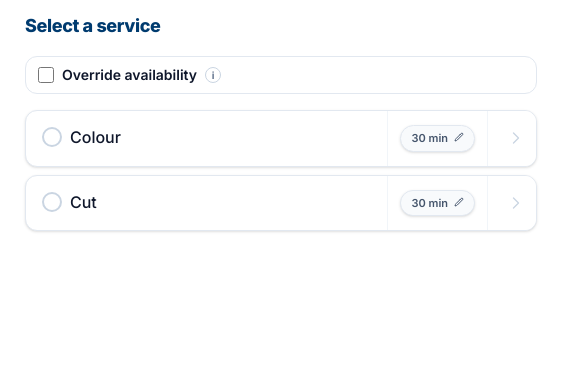
the tick box › lists a person who does not usually offer the service, and says so
Expected: the heading "Select a service" is shown, [25,15,161,36]
Click the checkbox with test id "availability-override-toggle" at (46, 75), box [38,67,54,83]
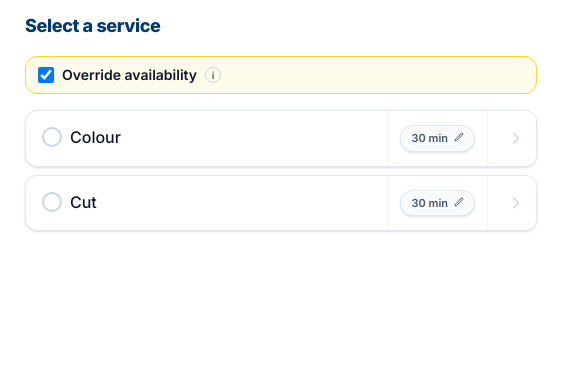
Click the button "Colour" at (95, 137), box [26,111,387,163]
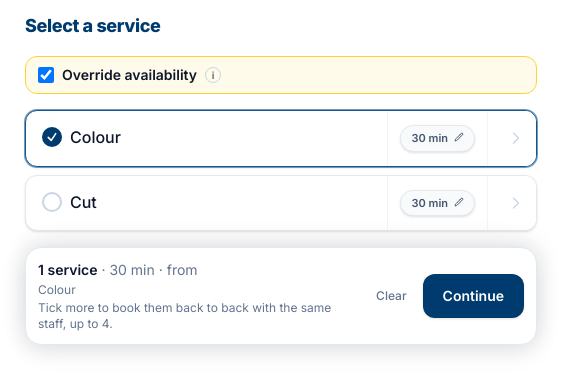
Click the button "Continue" at (473, 296), box [423,274,524,318]
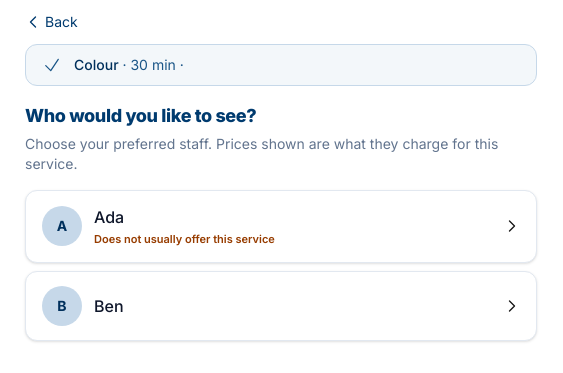
Expected: the heading "Who would you like to see?" is shown, [25,105,256,126]
Expected: the text "Does not usually offer this service" is shown, [94,231,275,248]
